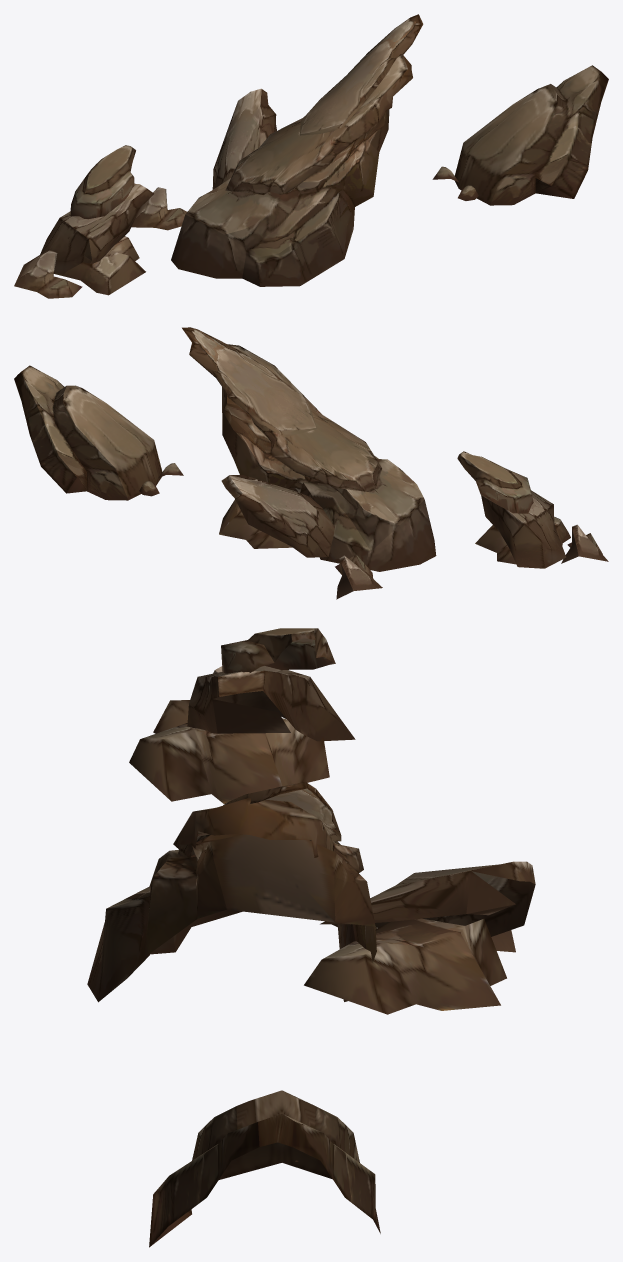
File: 2_SM_XieShiTou_01.FBX
3 renders of one model, top to bottom at view 1: azimuth 30°, elevation 25°; view 2: azimuth 150°, elevation 25°; view 3: azimuth 270°, elevation 25°, orthographic. The views are drawn at different scales.
Parts seen in each view (by area): view 1: 2_SM_XieShiTou_01_03, 2_SM_XieShiTou_01_04, 2_SM_XieShiTou_01_01, 2_SM_XieShiTou_01_02; view 2: 2_SM_XieShiTou_01_03, 2_SM_XieShiTou_01_04, 2_SM_XieShiTou_01_01, 2_SM_XieShiTou_01_02; view 3: 2_SM_XieShiTou_01_03, 2_SM_XieShiTou_01_01, 2_SM_XieShiTou_01_04, 2_SM_XieShiTou_01_02.
Boxes of the visible parts, x1,y1,x2,y2 form: 2_SM_XieShiTou_01_03: [131, 14, 423, 286]; 2_SM_XieShiTou_01_04: [432, 65, 608, 205]; 2_SM_XieShiTou_01_01: [14, 183, 153, 298]; 2_SM_XieShiTou_01_02: [70, 145, 135, 219]; 2_SM_XieShiTou_01_03: [182, 327, 436, 599]; 2_SM_XieShiTou_01_04: [14, 365, 183, 500]; 2_SM_XieShiTou_01_01: [475, 490, 608, 568]; 2_SM_XieShiTou_01_02: [457, 451, 533, 513]; 2_SM_XieShiTou_01_03: [87, 781, 535, 1014]; 2_SM_XieShiTou_01_01: [129, 666, 355, 803]; 2_SM_XieShiTou_01_04: [149, 1090, 380, 1247]; 2_SM_XieShiTou_01_02: [221, 628, 335, 673].
Size of the model in its own units: 1350 by 407 by 452.
1 material, 1 textured.
